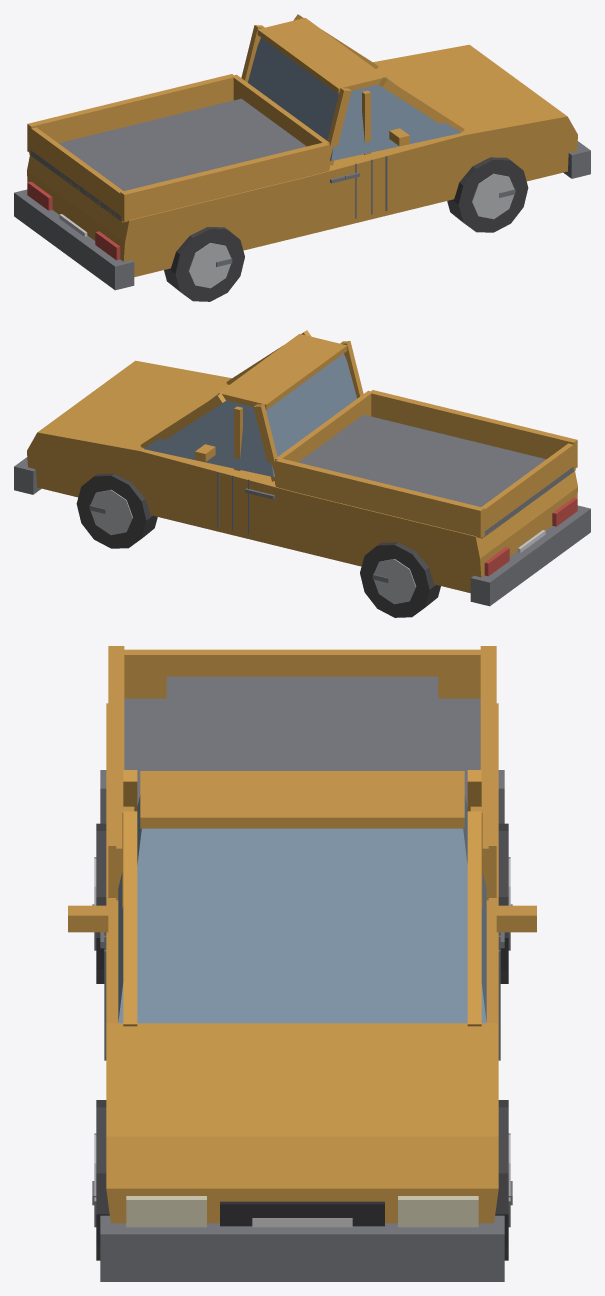
File: Araba_Pickup_Turuncu.glb
3 renders of one model, top to bottom at view 1: azimuth 30°, elevation 25°; view 2: azimuth 150°, elevation 25°; view 3: azimuth 270°, elevation 25°, orthographic. The views are drawn at different scales.
Parts seen in each view (by area): view 1: Araba_Pickup_Turuncu, Wheel_0.006, Wheel_2.006; view 2: Araba_Pickup_Turuncu, Wheel_3.006, Wheel_1.006; view 3: Araba_Pickup_Turuncu, Wheel_0.006, Wheel_1.006, Wheel_2.006, Wheel_3.006.
Part boxes in pixels (bbox=[...]): Araba_Pickup_Turuncu: bbox=[14, 14, 590, 290]; Wheel_0.006: bbox=[447, 157, 528, 232]; Wheel_2.006: bbox=[164, 227, 244, 301]; Araba_Pickup_Turuncu: bbox=[14, 330, 590, 606]; Wheel_3.006: bbox=[360, 542, 440, 617]; Wheel_1.006: bbox=[76, 473, 157, 548]; Araba_Pickup_Turuncu: bbox=[68, 646, 536, 1281]; Wheel_0.006: bbox=[92, 1100, 109, 1260]; Wheel_1.006: bbox=[495, 1100, 512, 1260]; Wheel_2.006: bbox=[92, 823, 106, 983]; Wheel_3.006: bbox=[498, 823, 512, 983].
Bounding box in the file's own units: 5.46 × 1.89 × 2.33.
